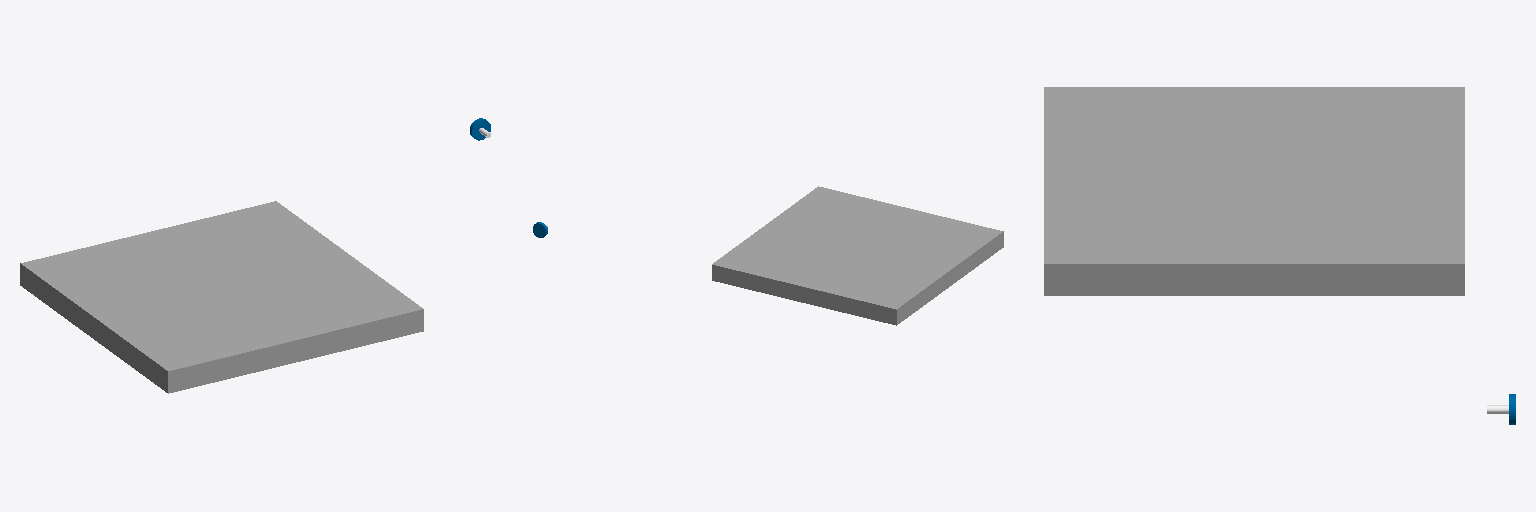
URDF robot description (ur5e_epick):
<?xml version="1.0" encoding="utf-8" ?>
<!-- =================================================================================== -->
<!-- |    This document was autogenerated by xacro from [local-path]/lab_workspaces/lab09_ws/src/lab09_gazebo/urdf/ur5e_robotiq_epick_robot.urdf.xacro | -->
<!-- |    EDITING THIS FILE BY HAND IS NOT RECOMMENDED                                 | -->
<!-- =================================================================================== -->
<robot name="ur5e_epick">
    <!--
    Base UR robot series xacro macro.

    NOTE: this is NOT a URDF. It cannot directly be loaded by consumers
    expecting a flattened '.urdf' file. See the top-level '.xacro' for that
    (but note: that .xacro must still be processed by the xacro command).

    For use in '.launch' files: use one of the 'load_urX.launch' convenience
    launch files.

    This file models the base kinematic chain of a UR robot, which then gets
    parameterised by various configuration files to convert it into a UR3(e),
    UR5(e), UR10(e) or UR16e.

    NOTE: the default kinematic parameters (ie: link lengths, frame locations,
    offets, etc) do not correspond to any particular robot. They are defaults
    only. There WILL be non-zero offsets between the Forward Kinematics results
    in TF (ie: robot_state_publisher) and the values reported by the Teach
    Pendant.

    For accurate (and robot-specific) transforms, the 'kinematics_parameters_file'
    parameter MUST point to a .yaml file containing the appropriate values for
    the targetted robot.

    If using the UniversalRobots/Universal_Robots_ROS_Driver, follow the steps
    described in the readme of that repository to extract the kinematic
    calibration from the controller and generate the required .yaml file.

    Main author of the migration to yaml configs: [author].

    Contributors to previous versions (in no particular order):

     - [author]
     - [author]
     - [author]
     - [author]
     - [author]
     - [author]
     - [author]
     - [author]
     - [author]
     - [author]
     - [author]
     - [author]
     - [author]
     - [author]
     - [author]
     - [author]
     - [author]
  -->
    <!--
    NOTE: the macro defined in this file is NOT part of the public API of this
          package. Users CANNOT rely on this file being available, or stored in
          this location. Nor can they rely on the existence of the macro.
  -->
    <transmission name="shoulder_pan_trans">
        <type>transmission_interface/SimpleTransmission</type>
        <joint name="shoulder_pan_joint">
            <hardwareInterface>hardware_interface/PositionJointInterface</hardwareInterface>
        </joint>
        <actuator name="shoulder_pan_motor">
            <mechanicalReduction>1</mechanicalReduction>
        </actuator>
    </transmission>
    <transmission name="shoulder_lift_trans">
        <type>transmission_interface/SimpleTransmission</type>
        <joint name="shoulder_lift_joint">
            <hardwareInterface>hardware_interface/PositionJointInterface</hardwareInterface>
        </joint>
        <actuator name="shoulder_lift_motor">
            <mechanicalReduction>1</mechanicalReduction>
        </actuator>
    </transmission>
    <transmission name="elbow_trans">
        <type>transmission_interface/SimpleTransmission</type>
        <joint name="elbow_joint">
            <hardwareInterface>hardware_interface/PositionJointInterface</hardwareInterface>
        </joint>
        <actuator name="elbow_motor">
            <mechanicalReduction>1</mechanicalReduction>
        </actuator>
    </transmission>
    <transmission name="wrist_1_trans">
        <type>transmission_interface/SimpleTransmission</type>
        <joint name="wrist_1_joint">
            <hardwareInterface>hardware_interface/PositionJointInterface</hardwareInterface>
        </joint>
        <actuator name="wrist_1_motor">
            <mechanicalReduction>1</mechanicalReduction>
        </actuator>
    </transmission>
    <transmission name="wrist_2_trans">
        <type>transmission_interface/SimpleTransmission</type>
        <joint name="wrist_2_joint">
            <hardwareInterface>hardware_interface/PositionJointInterface</hardwareInterface>
        </joint>
        <actuator name="wrist_2_motor">
            <mechanicalReduction>1</mechanicalReduction>
        </actuator>
    </transmission>
    <transmission name="wrist_3_trans">
        <type>transmission_interface/SimpleTransmission</type>
        <joint name="wrist_3_joint">
            <hardwareInterface>hardware_interface/PositionJointInterface</hardwareInterface>
        </joint>
        <actuator name="wrist_3_motor">
            <mechanicalReduction>1</mechanicalReduction>
        </actuator>
    </transmission>
    <!-- links: main serial chain -->
    <link name="base_link" />
    <link name="base_link_inertia">
        <visual>
            <origin rpy="0 0 3.14159265359" xyz="0 0 0" />
            <geometry>
                <mesh filename="package://ur_description/meshes/ur5e/visual/base.dae" />
            </geometry>
            <material name="LightGrey">
                <color rgba="0.7 0.7 0.7 1.0" />
            </material>
        </visual>
        <collision>
            <origin rpy="0 0 3.14159265359" xyz="0 0 0" />
            <geometry>
                <mesh filename="package://ur_description/meshes/ur5e/collision/base.stl" />
            </geometry>
        </collision>
        
<inertial>
            <mass value="4.0" />
            <origin rpy="0 0 0" xyz="0 0 0" />
            <inertia ixx="0.00443333156" ixy="0.0" ixz="0.0" iyy="0.00443333156" iyz="0.0" izz="0.0072" />
        </inertial>

    </link>
    <link name="shoulder_link">
        <visual>
            <origin rpy="0 0 3.14159265359" xyz="0 0 0" />
            <geometry>
                <mesh filename="package://ur_description/meshes/ur5e/visual/shoulder.dae" />
            </geometry>
            <material name="LightGrey">
                <color rgba="0.7 0.7 0.7 1.0" />
            </material>
        </visual>
        <collision>
            <origin rpy="0 0 3.14159265359" xyz="0 0 0" />
            <geometry>
                <mesh filename="package://ur_description/meshes/ur5e/collision/shoulder.stl" />
            </geometry>
        </collision>
        
<inertial>
            <mass value="3.7" />
            <origin rpy="0 0 0" xyz="0 0 0" />
            <inertia ixx="0.010267495893" ixy="0.0" ixz="0.0" iyy="0.010267495893" iyz="0.0" izz="0.00666" />
        </inertial>

    </link>
    <link name="upper_arm_link">
        <visual>
            <origin rpy="1.57079632679 0 -1.57079632679" xyz="0 0 0.138" />
            <geometry>
                <mesh filename="package://ur_description/meshes/ur5e/visual/upperarm.dae" />
            </geometry>
            <material name="LightGrey">
                <color rgba="0.7 0.7 0.7 1.0" />
            </material>
        </visual>
        <collision>
            <origin rpy="1.57079632679 0 -1.57079632679" xyz="0 0 0.138" />
            <geometry>
                <mesh filename="package://ur_description/meshes/ur5e/collision/upperarm.stl" />
            </geometry>
        </collision>
        
<inertial>
            <mass value="8.393" />
            <origin rpy="0 1.57079632679 0" xyz="-0.2125 0.0 0.138" />
            <inertia ixx="0.133885781862" ixy="0.0" ixz="0.0" iyy="0.133885781862" iyz="0.0" izz="0.0151074" />
        </inertial>

    </link>
    <link name="forearm_link">
        <visual>
            <origin rpy="1.57079632679 0 -1.57079632679" xyz="0 0 0.007" />
            <geometry>
                <mesh filename="package://ur_description/meshes/ur5e/visual/forearm.dae" />
            </geometry>
            <material name="LightGrey">
                <color rgba="0.7 0.7 0.7 1.0" />
            </material>
        </visual>
        <collision>
            <origin rpy="1.57079632679 0 -1.57079632679" xyz="0 0 0.007" />
            <geometry>
                <mesh filename="package://ur_description/meshes/ur5e/collision/forearm.stl" />
            </geometry>
        </collision>
        
<inertial>
            <mass value="2.275" />
            <origin rpy="0 1.57079632679 0" xyz="-0.1961 0.0 0.007" />
            <inertia ixx="0.0312093550996" ixy="0.0" ixz="0.0" iyy="0.0312093550996" iyz="0.0" izz="0.004095" />
        </inertial>

    </link>
    <link name="wrist_1_link">
        <visual>
            <!-- TODO: Move this to a parameter -->
            <origin rpy="1.57079632679 0 0" xyz="0 0 -0.127" />
            <geometry>
                <mesh filename="package://ur_description/meshes/ur5e/visual/wrist1.dae" />
            </geometry>
            <material name="LightGrey">
                <color rgba="0.7 0.7 0.7 1.0" />
            </material>
        </visual>
        <collision>
            <origin rpy="1.57079632679 0 0" xyz="0 0 -0.127" />
            <geometry>
                <mesh filename="package://ur_description/meshes/ur5e/collision/wrist1.stl" />
            </geometry>
        </collision>
        
<inertial>
            <mass value="1.219" />
            <origin rpy="0 0 0" xyz="0 0 0" />
            <inertia ixx="0.00255989897604" ixy="0.0" ixz="0.0" iyy="0.00255989897604" iyz="0.0" izz="0.0021942" />
        </inertial>

    </link>
    <link name="wrist_2_link">
        <visual>
            <origin rpy="0 0 0" xyz="0 0 -0.0997" />
            <geometry>
                <mesh filename="package://ur_description/meshes/ur5e/visual/wrist2.dae" />
            </geometry>
            <material name="LightGrey">
                <color rgba="0.7 0.7 0.7 1.0" />
            </material>
        </visual>
        <collision>
            <origin rpy="0 0 0" xyz="0 0 -0.0997" />
            <geometry>
                <mesh filename="package://ur_description/meshes/ur5e/collision/wrist2.stl" />
            </geometry>
        </collision>
        
<inertial>
            <mass value="1.219" />
            <origin rpy="0 0 0" xyz="0 0 0" />
            <inertia ixx="0.00255989897604" ixy="0.0" ixz="0.0" iyy="0.00255989897604" iyz="0.0" izz="0.0021942" />
        </inertial>

    </link>
    <link name="wrist_3_link">
        <visual>
            <origin rpy="1.57079632679 0 0" xyz="0 0 -0.0989" />
            <geometry>
                <mesh filename="package://ur_description/meshes/ur5e/visual/wrist3.dae" />
            </geometry>
            <material name="LightGrey">
                <color rgba="0.7 0.7 0.7 1.0" />
            </material>
        </visual>
        <collision>
            <origin rpy="1.57079632679 0 0" xyz="0 0 -0.0989" />
            <geometry>
                <mesh filename="package://ur_description/meshes/ur5e/collision/wrist3.stl" />
            </geometry>
        </collision>
        
<inertial>
            <mass value="0.1879" />
            <origin rpy="0 0 0" xyz="0.0 0.0 -0.0229" />
            <inertia ixx="9.89041005217e-05" ixy="0.0" ixz="0.0" iyy="9.89041005217e-05" iyz="0.0" izz="0.0001321171875" />
        </inertial>

    </link>
    <!-- joints: main serial chain -->
    <joint name="base_link-base_link_inertia" type="fixed">
        <parent link="base_link" />
        <child link="base_link_inertia" />
        <!-- 'base_link' is REP-103 aligned (so X+ forward), while the internal
           frames of the robot/controller have X+ pointing backwards.
           Use the joint between 'base_link' and 'base_link_inertia' (a dummy
           link/frame) to introduce the necessary rotation over Z (of pi rad).
      -->
        <origin rpy="0 0 3.14159265359" xyz="0 0 0" />
    </joint>
    <joint name="shoulder_pan_joint" type="revolute">
        <parent link="base_link_inertia" />
        <child link="shoulder_link" />
        <origin rpy="0 0 0" xyz="0 0 0.1625" />
        <axis xyz="0 0 1" />
        <limit effort="150.0" lower="-3.14159265359" upper="3.14159265359" velocity="3.14159265359" />
        <dynamics damping="0" friction="0" />
    </joint>
    <joint name="shoulder_lift_joint" type="revolute">
        <parent link="shoulder_link" />
        <child link="upper_arm_link" />
        <origin rpy="1.570796327 0 0" xyz="0 0 0" />
        <axis xyz="0 0 1" />
        <limit effort="150.0" lower="-6.28318530718" upper="6.28318530718" velocity="3.14159265359" />
        <dynamics damping="0" friction="0" />
    </joint>
    <joint name="elbow_joint" type="revolute">
        <parent link="upper_arm_link" />
        <child link="forearm_link" />
        <origin rpy="0 0 0" xyz="-0.425 0 0" />
        <axis xyz="0 0 1" />
        <limit effort="150.0" lower="-3.14159265359" upper="3.14159265359" velocity="3.14159265359" />
        <dynamics damping="0" friction="0" />
    </joint>
    <joint name="wrist_1_joint" type="revolute">
        <parent link="forearm_link" />
        <child link="wrist_1_link" />
        <origin rpy="0 0 0" xyz="-0.3922 0 0.1333" />
        <axis xyz="0 0 1" />
        <limit effort="28.0" lower="-6.28318530718" upper="6.28318530718" velocity="3.14159265359" />
        <dynamics damping="0" friction="0" />
    </joint>
    <joint name="wrist_2_joint" type="revolute">
        <parent link="wrist_1_link" />
        <child link="wrist_2_link" />
        <origin rpy="1.570796327 0 0" xyz="0 -0.0997 -2.0448811823e-11" />
        <axis xyz="0 0 1" />
        <limit effort="28.0" lower="-6.28318530718" upper="6.28318530718" velocity="3.14159265359" />
        <dynamics damping="0" friction="0" />
    </joint>
    <joint name="wrist_3_joint" type="revolute">
        <parent link="wrist_2_link" />
        <child link="wrist_3_link" />
        <origin rpy="1.57079632659 3.14159265359 3.14159265359" xyz="0 0.0996 -2.04283014801e-11" />
        <axis xyz="0 0 1" />
        <limit effort="28.0" lower="-6.28318530718" upper="6.28318530718" velocity="3.14159265359" />
        <dynamics damping="0" friction="0" />
    </joint>
    <!-- ROS-Industrial 'base' frame: base_link to UR 'Base' Coordinates transform -->
    <link name="base" />
    <joint name="base_link-base_fixed_joint" type="fixed">
        <!-- Note the rotation over Z of pi radians: as base_link is REP-103
           aligned (ie: has X+ forward, Y+ left and Z+ up), this is needed
           to correctly align 'base' with the 'Base' coordinate system of
           the UR controller.
      -->
        <origin rpy="0 0 3.14159265359" xyz="0 0 0" />
        <parent link="base_link" />
        <child link="base" />
    </joint>
    <!-- ROS-Industrial 'flange' frame: attachment point for EEF models -->
    <link name="flange" />
    <joint name="wrist_3-flange" type="fixed">
        <parent link="wrist_3_link" />
        <child link="flange" />
        <origin rpy="0 -1.57079632679 -1.57079632679" xyz="0 0 0" />
    </joint>
    <!-- ROS-Industrial 'tool0' frame: all-zeros tool frame -->
    <link name="tool0" />
    <joint name="flange-tool0" type="fixed">
        <!-- default toolframe: X+ left, Y+ up, Z+ front -->
        <origin rpy="1.57079632679 0 1.57079632679" xyz="0 0 0" />
        <parent link="flange" />
        <child link="tool0" />
    </joint>
    <!-- Configure self collision properties per link -->
    <gazebo reference="shoulder_link">
        <selfCollide>true</selfCollide>
    </gazebo>
    <gazebo reference="upper_arm_link">
        <selfCollide>true</selfCollide>
    </gazebo>
    <gazebo reference="forearm_link">
        <selfCollide>true</selfCollide>
    </gazebo>
    <gazebo reference="wrist_1_link">
        <selfCollide>true</selfCollide>
    </gazebo>
    <gazebo reference="wrist_3_link">
        <selfCollide>true</selfCollide>
    </gazebo>
    <gazebo reference="wrist_2_link">
        <selfCollide>true</selfCollide>
    </gazebo>
    <gazebo reference="ee_link">
        <selfCollide>true</selfCollide>
    </gazebo>
    <!--
          Inject Gazebo ROS Control plugin, which allows us to use ros_control
          controllers to control the virtual robot hw.
        -->
    <gazebo>
        <plugin filename="libgazebo_ros_control.so" name="ros_control">
            <!--robotNamespace>/</robotNamespace-->
            <!--robotSimType>gazebo_ros_control/DefaultRobotHWSim</robotSimType-->
        </plugin>
    </gazebo>
    <link name="epick">
        
<inertial>
            <mass value="0.745" />
            <origin rpy="0 0 0" xyz="0 0.0 0.055" />
            <inertia ixx="0.003084" ixy="0.0" ixz="0.0" iyy="0.002999" iyz="0.0" izz="0.000546" />
        </inertial>

        <visual>
            <origin rpy="0 0 0" xyz="0 0 0.095" />
            <geometry>
                <mesh filename="model://robotiq_epick/visual/robotiq_epick.dae" scale="0.001 0.001 0.001" />
            </geometry>
            <material name="">
                <color rgba="1 1 1 1" />
            </material>
        </visual>
        <visual>
            <origin rpy="0 0 0" xyz="0 0 0.11" />
            <geometry>
                <cylinder length="0.03" radius="0.006" />
            </geometry>
            <material name="">
                <color rgba="1 1 1 1" />
            </material>
        </visual>
        <collision>
            <!-- -0.095 + 0.102/2 = -0.044-->
            <origin rpy="0 0 0" xyz="0 0 0.065" />
            <geometry>
                <cylinder length="0.13" radius="0.044" />
            </geometry>
        </collision>
        <!--       <collision>
      <origin xyz="0 0 ${0.008+0.095}" rpy="0 0 0"/>
      <geometry>
        <cylinder radius="0.006" length="0.016"/>
      </geometry>
      <material name="">
        <color rgba="1 1 1 1"/>
      </material>
    </collision>  -->
    </link>
    <joint name="epick_end_effector_joint" type="revolute">
        <axis xyz="1 0 0" />
        <parent link="epick" />
        <child link="epick_end_effector" />
        <origin rpy="0 0 0" xyz="0 0 0.13" />
        <limit effort="50" lower="0" upper="0" velocity="50" />
        <dynamics damping="0.0" friction="10" />
    </joint>
    <link name="epick_end_effector">
        <gravity>0</gravity>
        <visual>
            <origin rpy="0 0 0.005" xyz="0 0 0" />
            <geometry>
                <cylinder length="0.01" radius="0.0225" />
            </geometry>
            <!-- <material name="transparent">
        <color rgba="0 0 0 0"/>
      </material> -->
        </visual>
        
<inertial>
            <origin rpy="0 0 0" xyz="0 0 0" />
            <mass value="0.0001" />
            <inertia ixx="1e-08" ixy="0" ixz="0" iyy="1e-08" iyz="0" izz="1e-08" />
        </inertial>

    </link>
    <!-- http://docs.ros.org/melodic/api/gazebo_plugins/html/group__GazeboRosVacuumGripper.html -->
    <gazebo>
        <plugin filename="libgazebo_ros_vacuum_gripper.so" name="gazebo_ros_vacuum_gripper">
            <robotNamespace>ur5e/epick</robotNamespace>
            <bodyName>epick_end_effector</bodyName>
            <topicName>grasping</topicName>
            <maxForce>150</maxForce>
            <maxDistance>0.03</maxDistance>
            <minDistance>0.01</minDistance>
        </plugin>
    </gazebo>
    <!-- fix epick to robot -->
    <joint name="robotiq_epick_joint" type="fixed">
        <origin rpy="0 0 -1.57079632679" xyz="0 0 0.004" />
        <parent link="tool0" />
        <child link="epick" />
    </joint>
    <transmission name="trans_shoulder_pan_joint">
        <type>transmission_interface/SimpleTransmission</type>
        <joint name="shoulder_pan_joint">
            <hardwareInterface>hardware_interface/EffortJointInterface</hardwareInterface>
        </joint>
        <actuator name="shoulder_pan_joint_motor">
            <hardwareInterface>hardware_interface/EffortJointInterface</hardwareInterface>
            <mechanicalReduction>1</mechanicalReduction>
        </actuator>
    </transmission>
    <transmission name="trans_shoulder_lift_joint">
        <type>transmission_interface/SimpleTransmission</type>
        <joint name="shoulder_lift_joint">
            <hardwareInterface>hardware_interface/EffortJointInterface</hardwareInterface>
        </joint>
        <actuator name="shoulder_lift_joint_motor">
            <hardwareInterface>hardware_interface/EffortJointInterface</hardwareInterface>
            <mechanicalReduction>1</mechanicalReduction>
        </actuator>
    </transmission>
    <transmission name="trans_elbow_joint">
        <type>transmission_interface/SimpleTransmission</type>
        <joint name="elbow_joint">
            <hardwareInterface>hardware_interface/EffortJointInterface</hardwareInterface>
        </joint>
        <actuator name="elbow_joint_motor">
            <hardwareInterface>hardware_interface/EffortJointInterface</hardwareInterface>
            <mechanicalReduction>1</mechanicalReduction>
        </actuator>
    </transmission>
    <transmission name="trans_wrist_1_joint">
        <type>transmission_interface/SimpleTransmission</type>
        <joint name="wrist_1_joint">
            <hardwareInterface>hardware_interface/EffortJointInterface</hardwareInterface>
        </joint>
        <actuator name="wrist_1_joint_motor">
            <hardwareInterface>hardware_interface/EffortJointInterface</hardwareInterface>
            <mechanicalReduction>1</mechanicalReduction>
        </actuator>
    </transmission>
    <transmission name="trans_wrist_2_joint">
        <type>transmission_interface/SimpleTransmission</type>
        <joint name="wrist_2_joint">
            <hardwareInterface>hardware_interface/EffortJointInterface</hardwareInterface>
        </joint>
        <actuator name="wrist_2_joint_motor">
            <hardwareInterface>hardware_interface/EffortJointInterface</hardwareInterface>
            <mechanicalReduction>1</mechanicalReduction>
        </actuator>
    </transmission>
    <transmission name="trans_wrist_3_joint">
        <type>transmission_interface/SimpleTransmission</type>
        <joint name="wrist_3_joint">
            <hardwareInterface>hardware_interface/EffortJointInterface</hardwareInterface>
        </joint>
        <actuator name="wrist_3_joint_motor">
            <hardwareInterface>hardware_interface/EffortJointInterface</hardwareInterface>
            <mechanicalReduction>1</mechanicalReduction>
        </actuator>
    </transmission>
    <gazebo>
        <plugin name="gazebo_ros_control" filename="libgazebo_ros_control.so">
            <robotNamespace>/</robotNamespace>
        </plugin>
    </gazebo>
</robot>

--- Render facts (derived) ---
Views: 3 orthographic renders of the robot side by side, from view 1: azimuth 30°, elevation 25°; view 2: azimuth 150°, elevation 25°; view 3: azimuth 270°, elevation 25°.
Robot: ur5e_epick — 13 links, 12 joints (7 revolute, 5 fixed); root link base_link; default pose: every joint at zero.
Visible links, largest first — view 1: base_link_inertia; view 2: base_link_inertia; view 3: base_link_inertia.
Link boxes in pixels (x1,y1,x2,y2): base_link_inertia: (20,201,423,393); base_link_inertia: (712,186,1003,325); base_link_inertia: (1044,87,1464,295).
Bounding box of the posed robot: 1.14 × 0.6719 × 0.0853 m (x, y, z).
1 mesh visuals loaded from 8 distinct referenced files (1 Collada DAE); not drawn: 7 (reference not matched to a file when rendering).